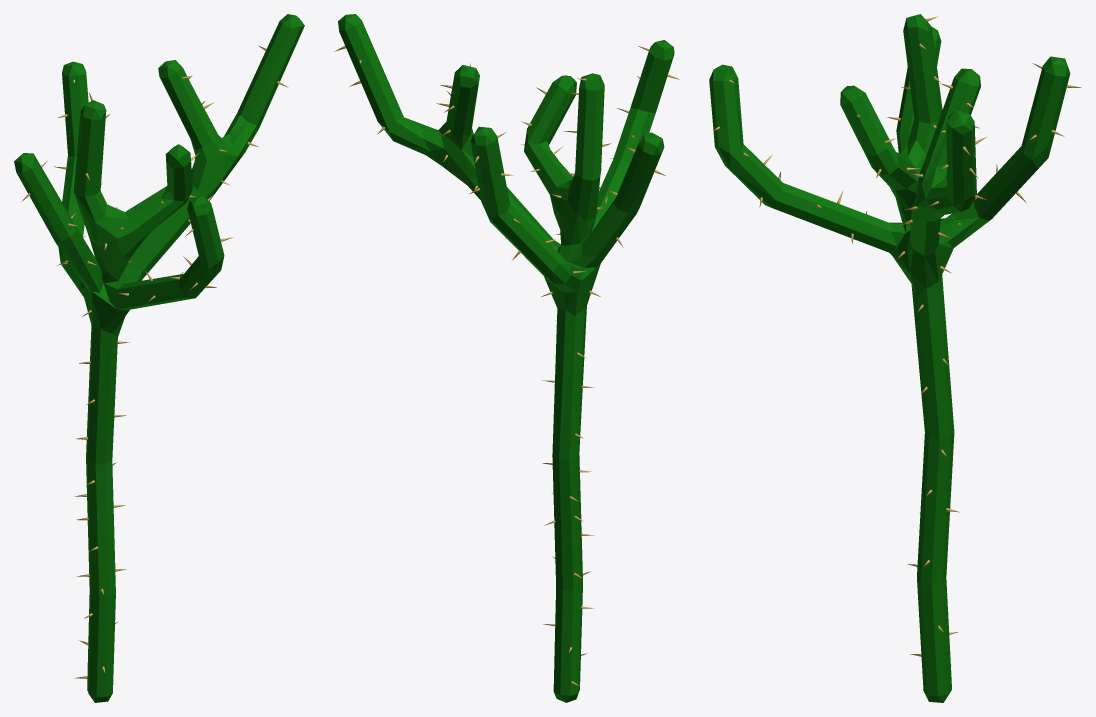
File: Cactus2.fbx
3 renders of one model, left to right at view 1: azimuth 30°, elevation 25°; view 2: azimuth 150°, elevation 25°; view 3: azimuth 270°, elevation 25°, orthographic. The views are drawn at different scales.
Visible parts, largest first — view 1: Cactus2; view 2: Cactus2; view 3: Cactus2.
Boxes of the visible parts, x1,y1,x2,y2 form: Cactus2: [14, 14, 304, 702]; Cactus2: [338, 14, 674, 702]; Cactus2: [709, 14, 1070, 702].
Bounding box in the file's own units: 602 × 1200 × 579.
